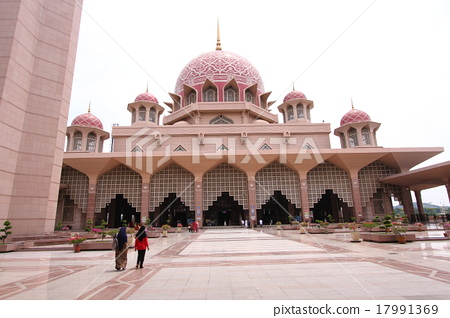Mosque: (58, 39, 378, 189)
